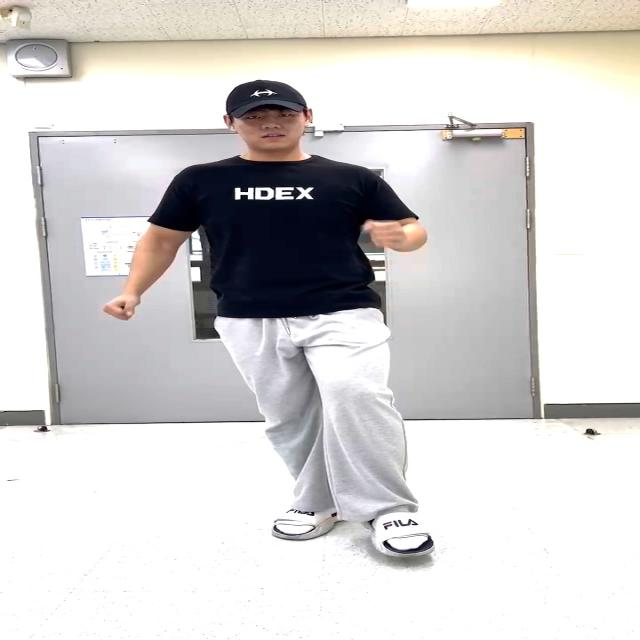leg: (316, 320, 447, 548)
